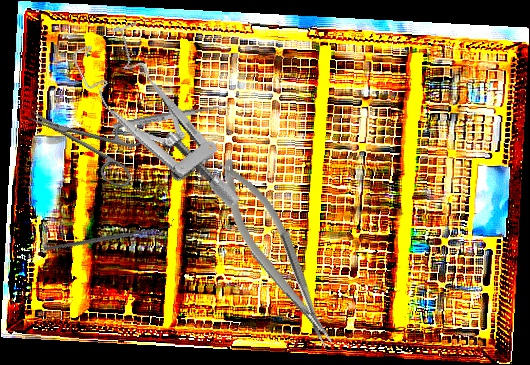Hook Surgical: (43, 180, 174, 290)
Iris Scissors: (17, 84, 152, 191)
Needle Holder: (206, 149, 344, 360)
Speculum: (68, 10, 243, 241)
Surgical Spoon: (112, 101, 230, 131)
